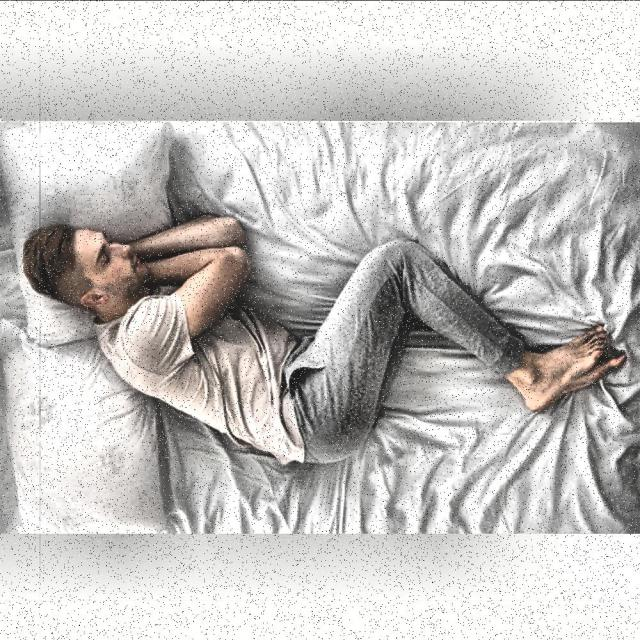Not_Supine: (24, 218, 625, 464)
